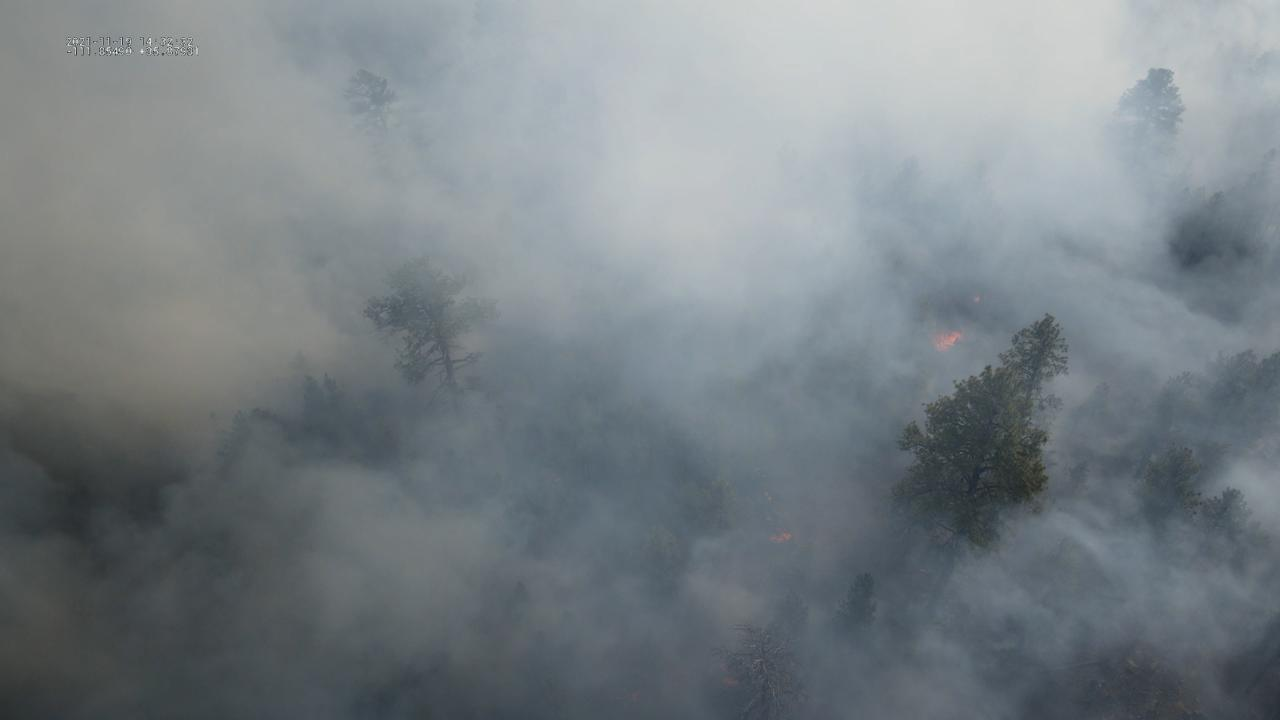fire: (925, 329, 962, 353), (768, 530, 792, 545), (969, 291, 982, 304)
smoke: (0, 0, 1280, 720)
